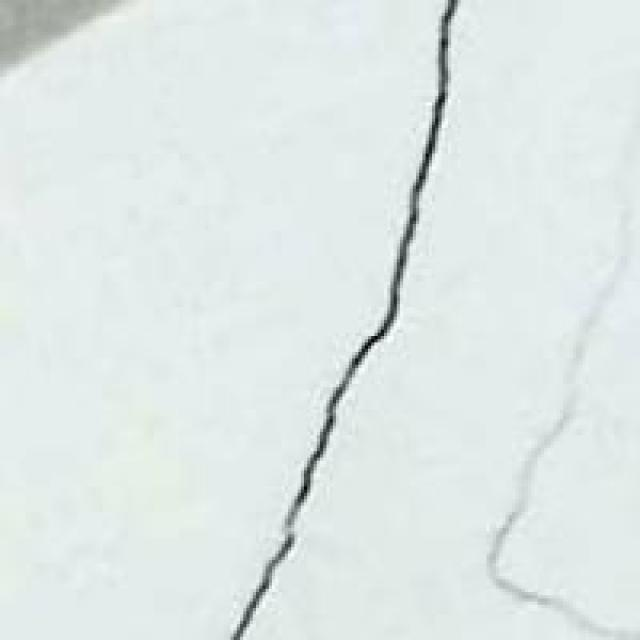Crack: (234, 0, 474, 637)
